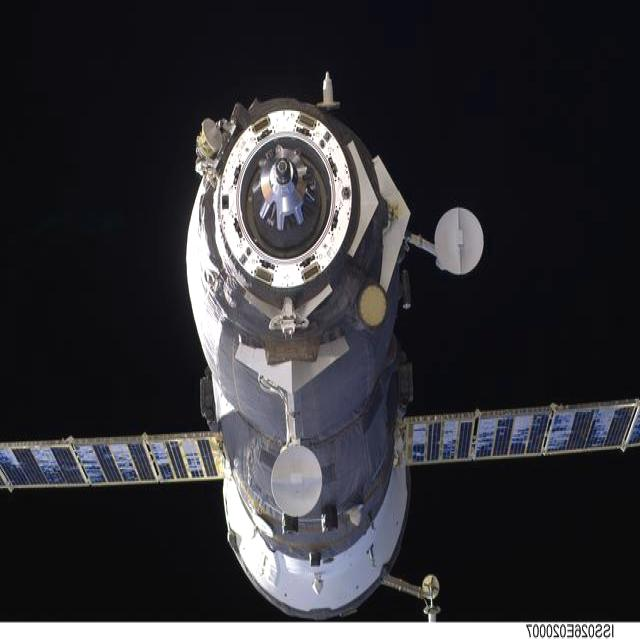satellite: (0, 75, 640, 618)
